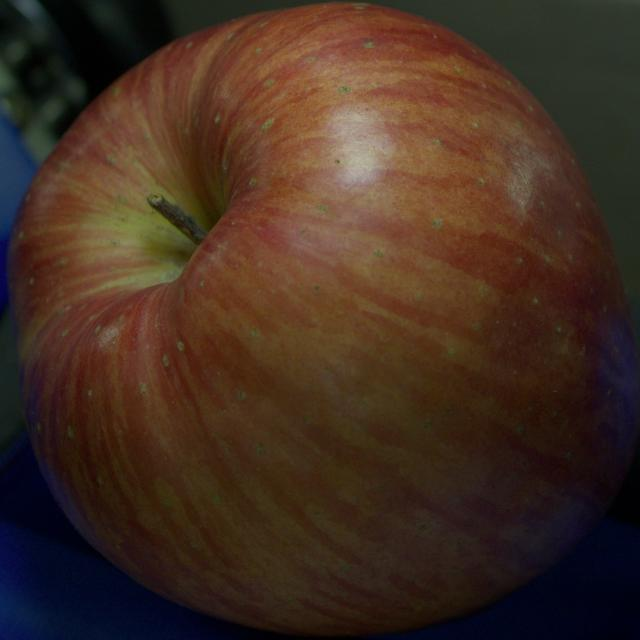apple: (7, 1, 639, 636)
